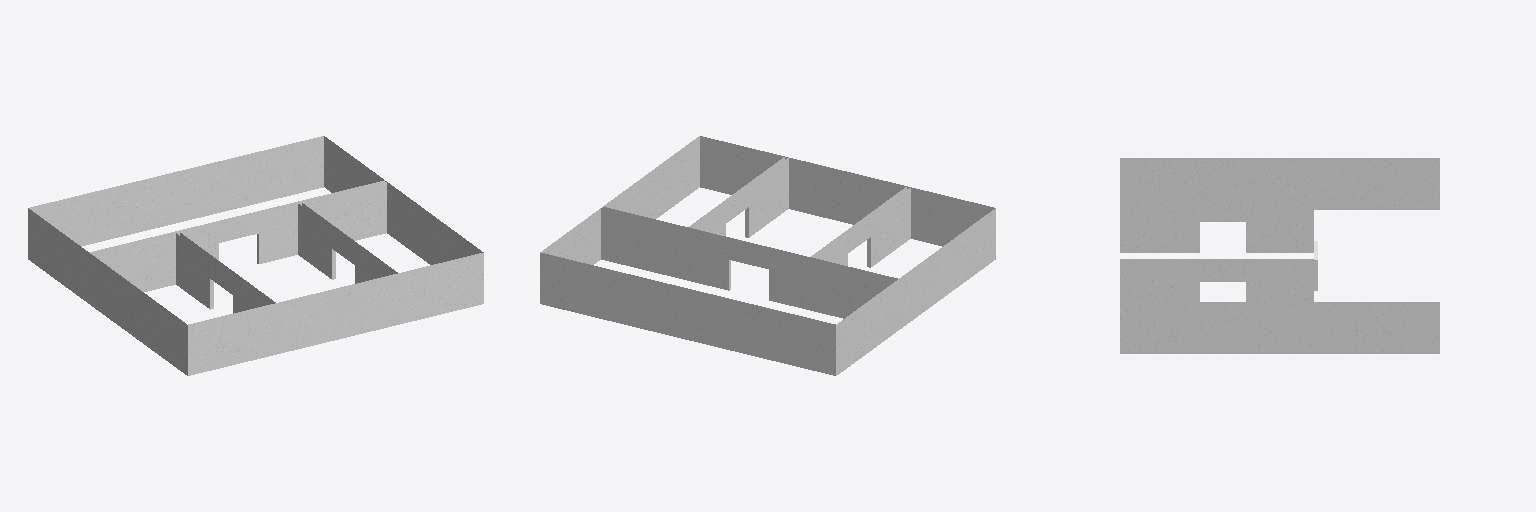
3 renders of one model, left to right at view 1: azimuth 30°, elevation 25°; view 2: azimuth 150°, elevation 25°; view 3: azimuth 270°, elevation 25°, orthographic.
Parts seen in each view (by area): view 1: pPlane2, pPlane6, pPlane5 polySurface14 polySurface13, pPlane3, pPlane4, polySurface5 pPlane8, polySurface3 polySurface1 pPlane7; view 2: pPlane6, polySurface12 pPlane5, pPlane2, pPlane3, pPlane4, polySurface5 pPlane8, polySurface3 polySurface1 pPlane7; view 3: pPlane4, pPlane3, pPlane7 polySurface2, pPlane8 polySurface7 polySurface6.
Part boxes in pixels (left/top/right/bottom): pPlane2: left=188, top=253, right=483, bottom=375; pPlane6: left=29, top=136, right=323, bottom=246; pPlane5 polySurface14 polySurface13: left=92, top=182, right=386, bottom=291; pPlane3: left=28, top=208, right=187, bottom=375; pPlane4: left=324, top=136, right=483, bottom=264; polySurface5 pPlane8: left=298, top=204, right=393, bottom=283; polySurface3 polySurface1 pPlane7: left=176, top=233, right=271, bottom=313; pPlane6: left=540, top=253, right=835, bottom=375; polySurface12 pPlane5: left=601, top=208, right=896, bottom=318; pPlane2: left=700, top=136, right=994, bottom=246; pPlane3: left=836, top=208, right=995, bottom=375; pPlane4: left=540, top=136, right=699, bottom=264; polySurface5 pPlane8: left=693, top=157, right=788, bottom=237; polySurface3 polySurface1 pPlane7: left=815, top=187, right=910, bottom=266; pPlane4: left=1120, top=302, right=1439, bottom=353; pPlane3: left=1120, top=158, right=1439, bottom=209; pPlane7 polySurface2: left=1120, top=201, right=1313, bottom=252; pPlane8 polySurface7 polySurface6: left=1120, top=261, right=1313, bottom=301.
Size of the model in its own units: 30 by 5 by 28.
1 materials, 1 textured.